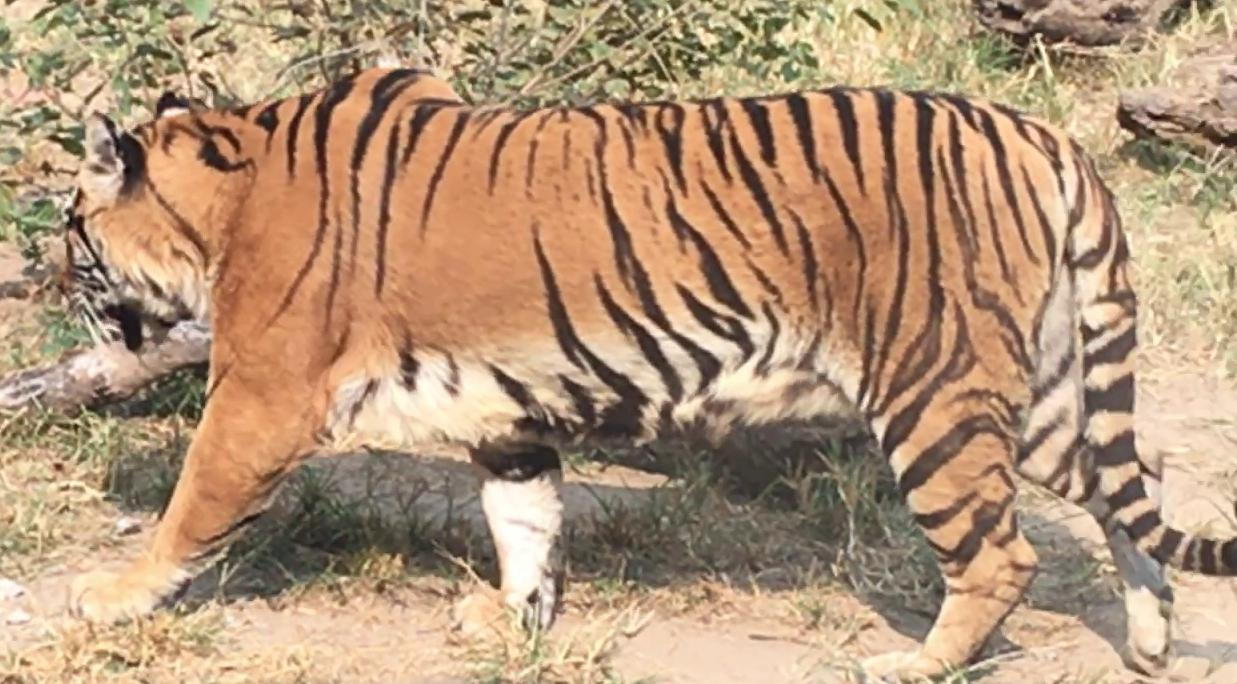tiger: (65, 67, 1236, 680)
